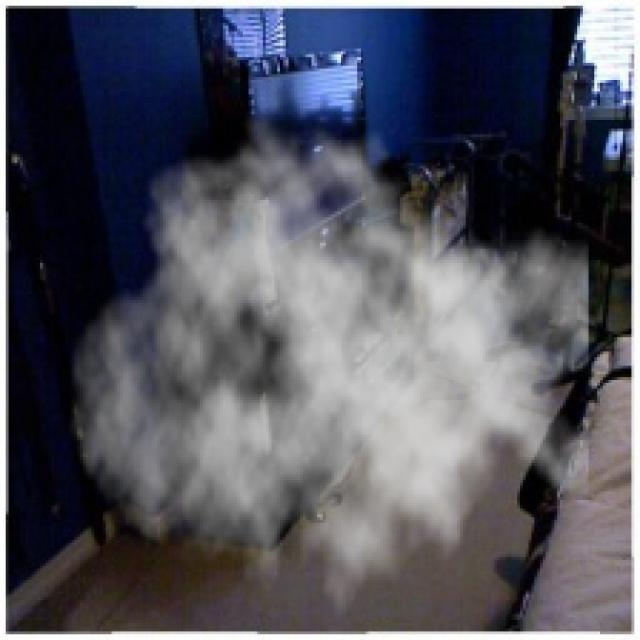Smoke: (69, 108, 592, 638)
